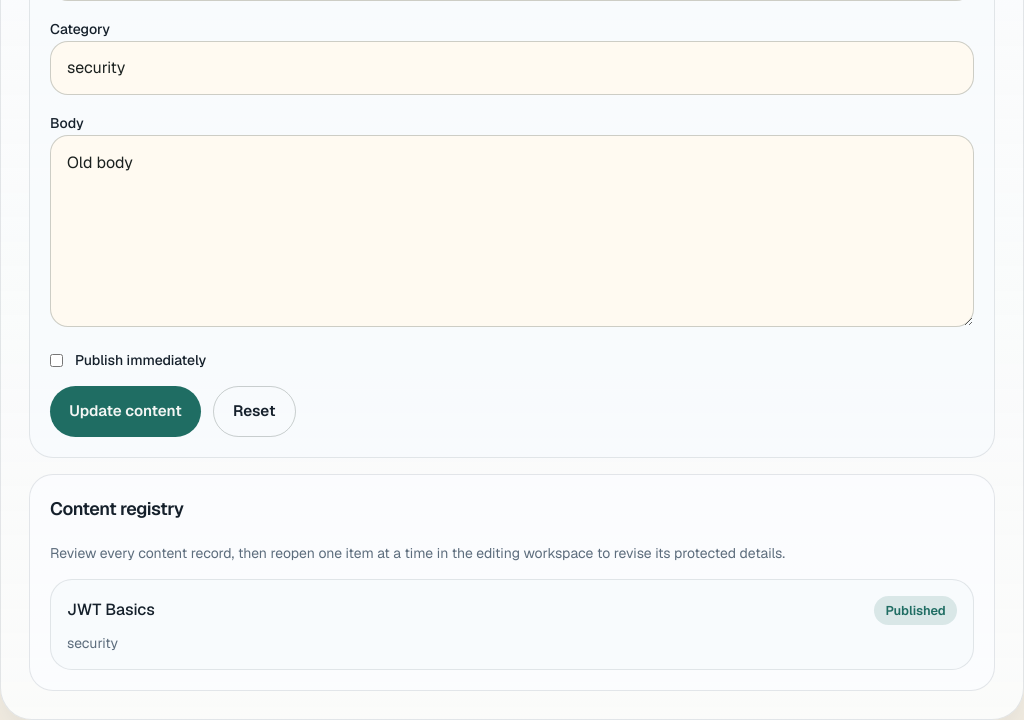
Test: ManageContentClient › resets the editor back to the empty create state
(page scrolled)
Expected: the button "Update content" is shown, x1=50 y1=386 x2=201 y2=437
Step 1. Click the button "Reset" → (254, 412), box x1=213 y1=386 x2=296 y2=437
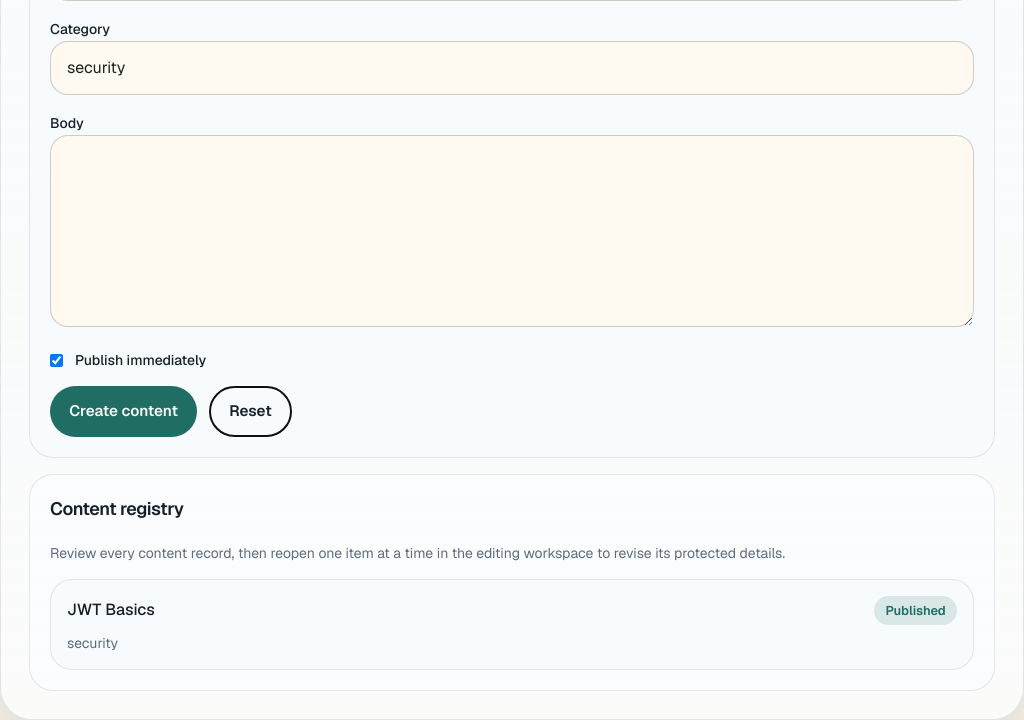
Expected: the text box labelled "Body" is empty, x1=50 y1=135 x2=974 y2=327
Expected: the checkbox is checked, x1=50 y1=354 x2=63 y2=367
Expected: the button "Create content" is shown, x1=50 y1=386 x2=197 y2=437
